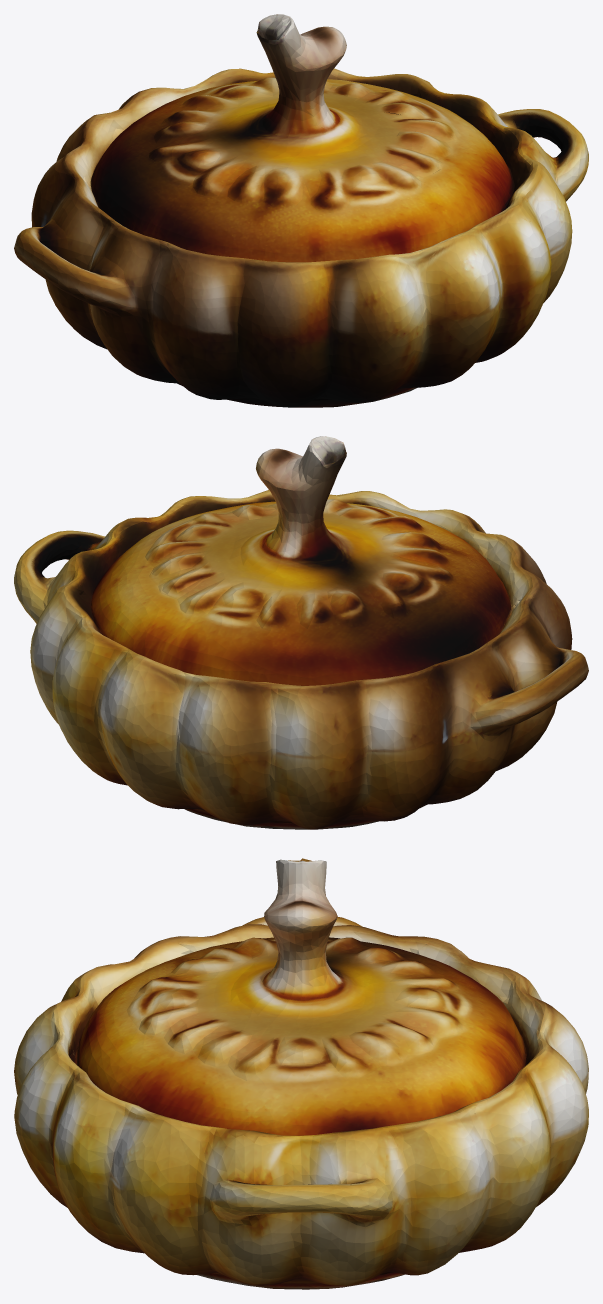
Rendered from ceramic-garlic-roaster-rustic.jpeg.glb.
3 renders of one model, top to bottom at view 1: azimuth 30°, elevation 25°; view 2: azimuth 150°, elevation 25°; view 3: azimuth 270°, elevation 25°, orthographic. The views are drawn at different scales.
Parts seen in each view (by area): view 1: world; view 2: world; view 3: world.
Boxes of the visible parts, <box> form: world: <box>14,14,588,407</box>; world: <box>14,436,588,829</box>; world: <box>14,858,588,1289</box>.
Size of the model in its own units: 1 by 0.5785 by 0.8641.
1 material, 1 textured.
